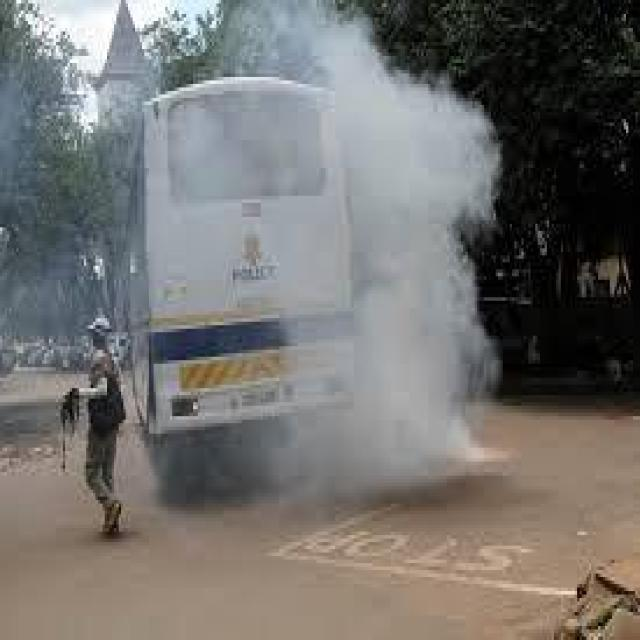Smoke: (288, 16, 521, 504)
